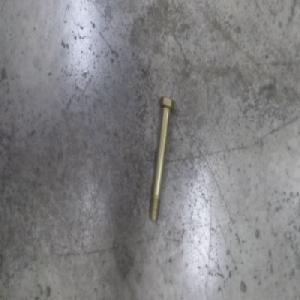Bolt: (148, 95, 175, 224)
